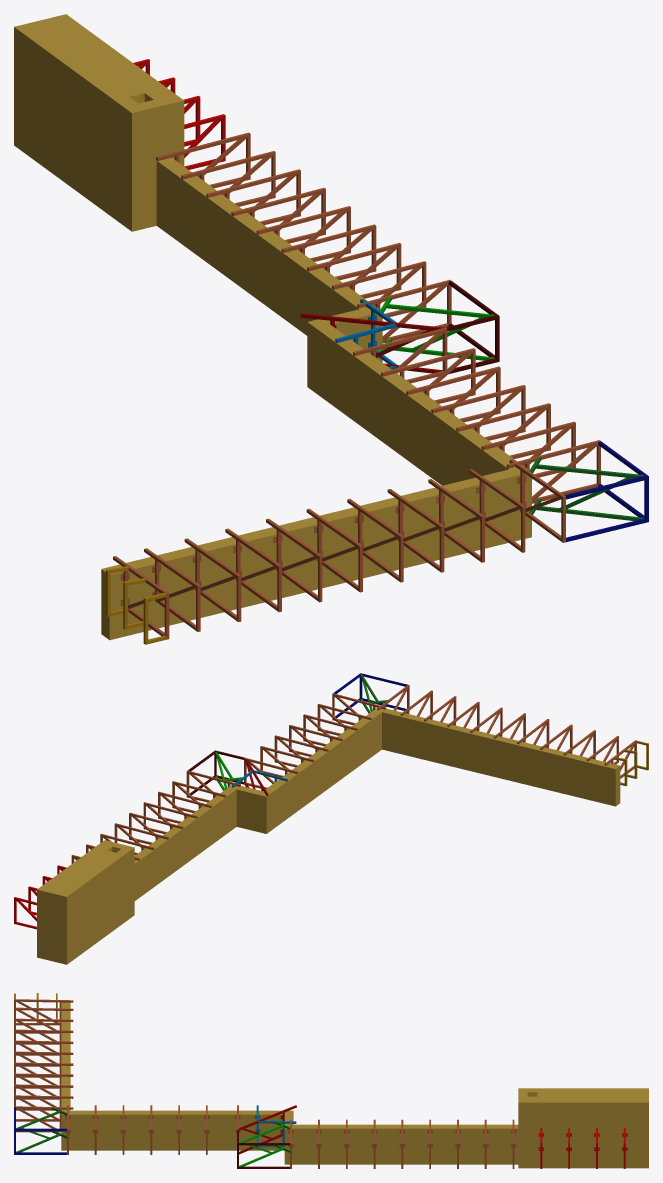
Rendered from aquakronsht321.glb.
3 views of the same model, one above another, from view 1: azimuth 30°, elevation 25°; view 2: azimuth 150°, elevation 25°; view 3: azimuth 270°, elevation 25° (orthographic). The views are drawn at different scales.
Parts seen in each view (by area): view 1: Внешняя_оболочка.002, Внешняя_оболочка.001, РљРѕРјРїРѕРЅР_РЅС__322.001, РљРѕРјРїРѕРЅР_РЅС__330.001, РљРѕРјРїРѕРЅР_РЅС__287.001, РљРѕРјРїРѕРЅР_РЅС__296.001, РљРѕРјРїРѕРЅР_РЅС__325.001, РљРѕРјРїРѕРЅР_РЅС__318.001; view 2: Внешняя_оболочка.002, Внешняя_оболочка.001, РљРѕРјРїРѕРЅР_РЅС__322.001, РљРѕРјРїРѕРЅР_РЅС__287.001; view 3: Внешняя_оболочка.002, Внешняя_оболочка.001, РљРѕРјРїРѕРЅР_РЅС__322.001, РљРѕРјРїРѕРЅР_РЅС__325.001, РљРѕРјРїРѕРЅР_РЅС__330.001, РљРѕРјРїРѕРЅР_РЅС__318.001, РљРѕРјРїРѕРЅР_РЅС__296.001, Различие.002.
Part boxes in pixels (box(x1,y1,x2,y2)): Внешняя_оболочка.002: box(101, 157, 531, 640); Внешняя_оболочка.001: box(14, 14, 184, 231); РљРѕРјРїРѕРЅР_РЅС__322.001: box(564, 441, 648, 542); РљРѕРјРїРѕРЅР_РЅС__330.001: box(529, 457, 643, 520); РљРѕРјРїРѕРЅР_РЅС__287.001: box(106, 566, 166, 644); РљРѕРјРїРѕРЅР_РЅС__296.001: box(446, 281, 499, 373); РљРѕРјРїРѕРЅР_РЅС__325.001: box(380, 297, 494, 360); РљРѕРјРїРѕРЅР_РЅС__318.001: box(300, 313, 443, 373); Внешняя_оболочка.002: box(134, 707, 620, 900); Внешняя_оболочка.001: box(37, 840, 134, 964); РљРѕРјРїРѕРЅР_РЅС__322.001: box(333, 673, 407, 717); РљРѕРјРїРѕРЅР_РЅС__287.001: box(614, 740, 648, 786); Внешняя_оболочка.002: box(61, 1002, 518, 1164); Внешняя_оболочка.001: box(518, 1088, 648, 1168); РљРѕРјРїРѕРЅР_РЅС__322.001: box(14, 1107, 66, 1154); РљРѕРјРїРѕРЅР_РЅС__325.001: box(239, 1122, 289, 1166); РљРѕРјРїРѕРЅР_РЅС__330.001: box(16, 1107, 66, 1152); РљРѕРјРїРѕРЅР_РЅС__318.001: box(239, 1105, 296, 1154); РљРѕРјРїРѕРЅР_РЅС__296.001: box(237, 1129, 289, 1168); Различие.002: box(255, 1105, 296, 1146).
Bounding box in the file's own units: 9.58 × 1.95 × 17.13.
